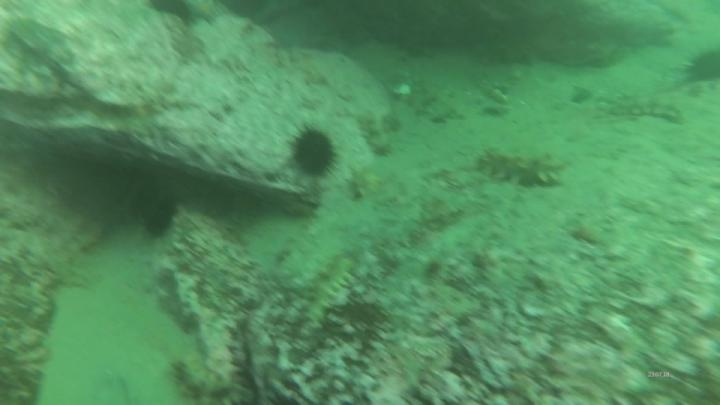echinus: (292, 126, 337, 181), (139, 193, 181, 240)
holothurian: (471, 146, 571, 192), (300, 250, 358, 324), (169, 353, 242, 405), (616, 96, 684, 130)
